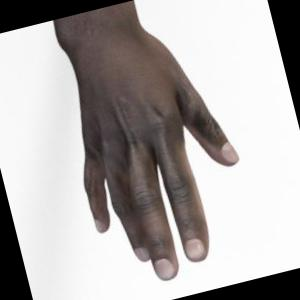paper: (54, 0, 238, 279)
